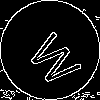W: (25, 25, 90, 90)
